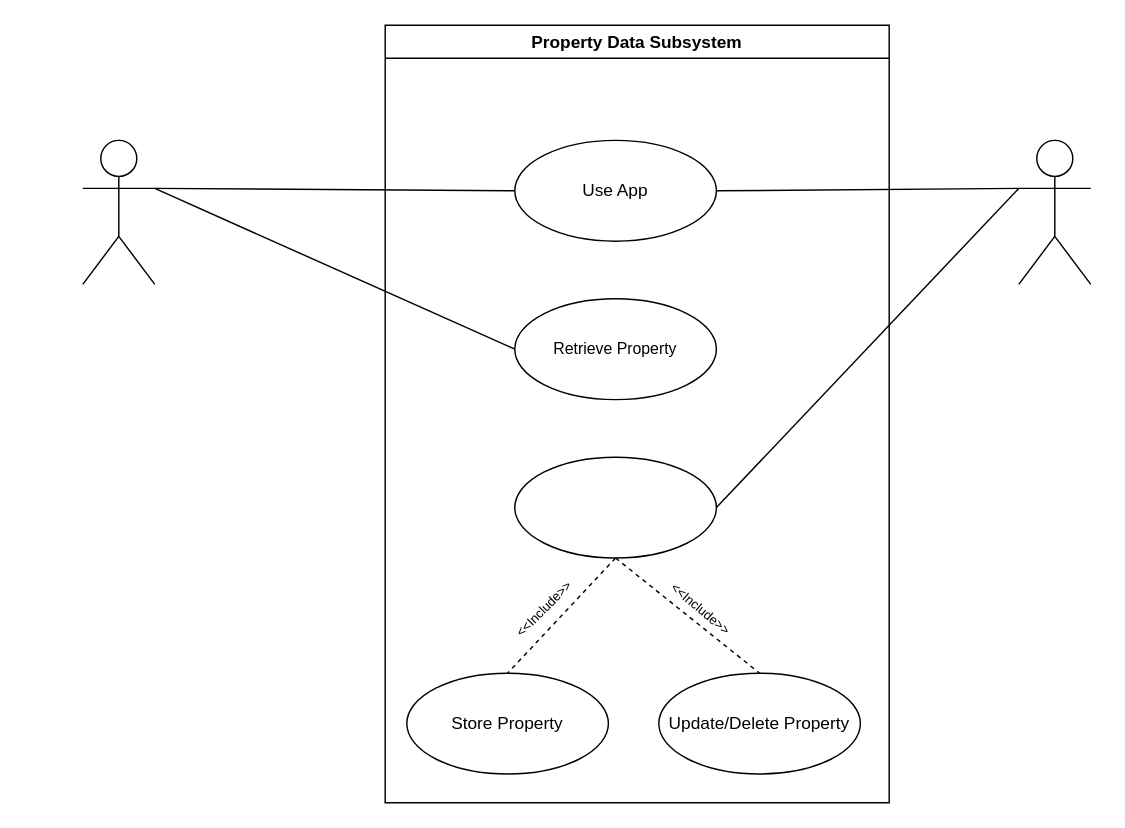
Image size: 1125x828. Some labels were removed from this diagram. The shapes that lost their labels are listed below. From the top down, each one's centre as x and y in pixels, then its label:
the point at 118,211: Potential Property Buyer
the point at 1054,211: Webscraper
the point at 614,507: Scrape Properties
